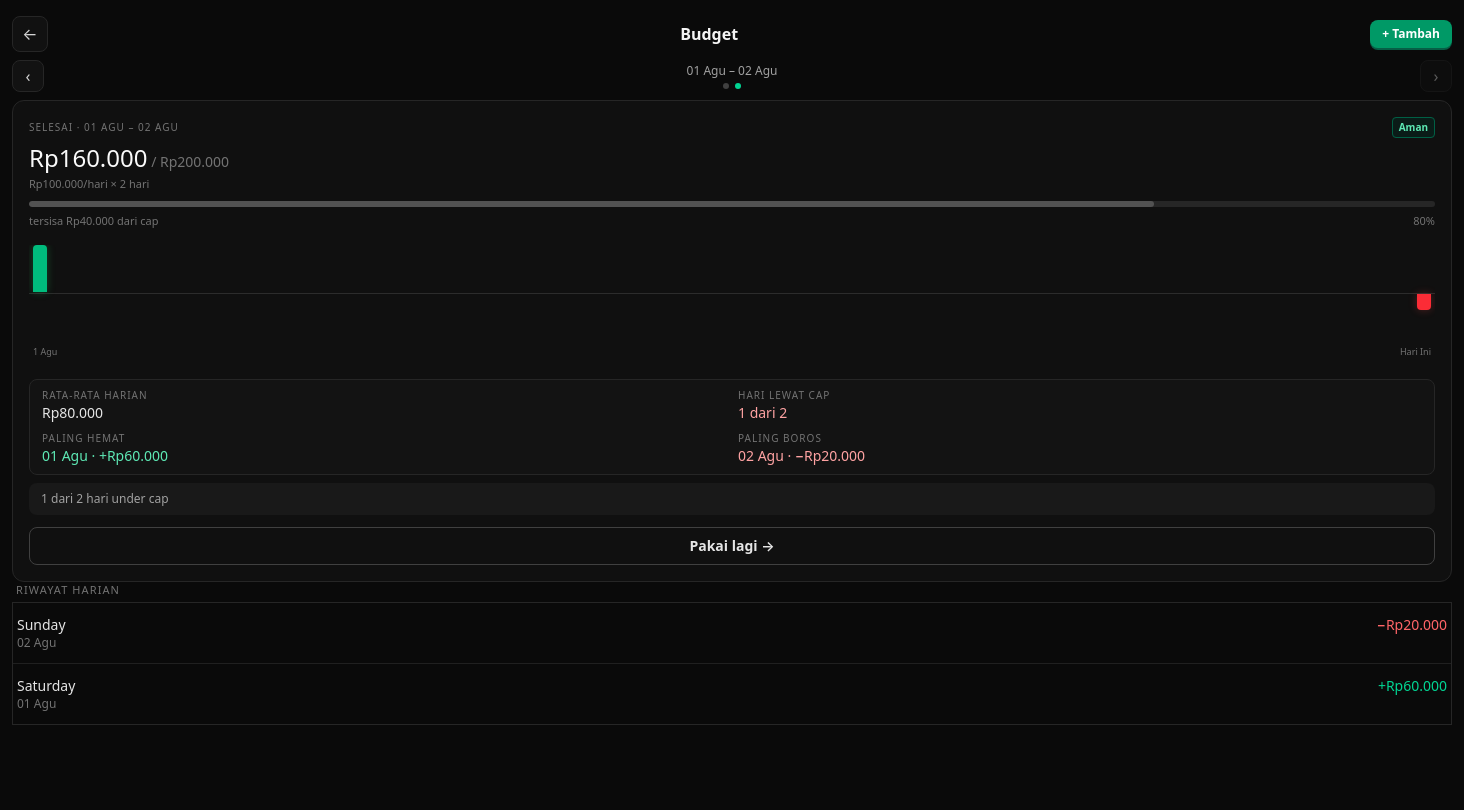
Test: BudgetScreen — history navigation + forecast › swaps the day history back to the active budget when navigating home
Expected: the list item with test id "budget-day-row-2026-08-02" is shown, [13, 603, 1451, 664]
Click the button with test id "budget-nav-prev" at (28, 76), box [12, 60, 44, 92]
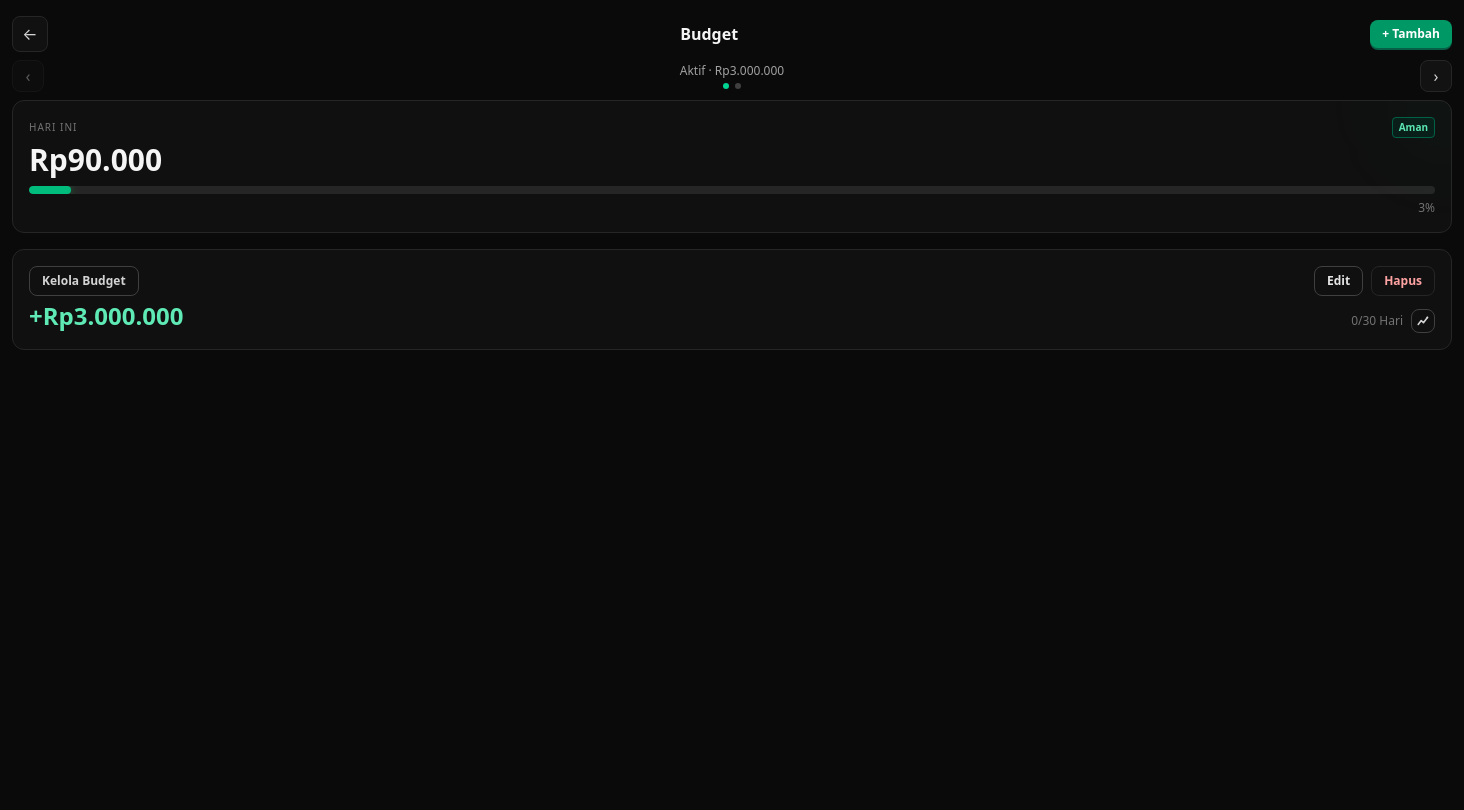
Expected: the list item with test id "budget-day-row-2026-08-02" is gone
Expected: the element with test id "budget-day-history" is gone
